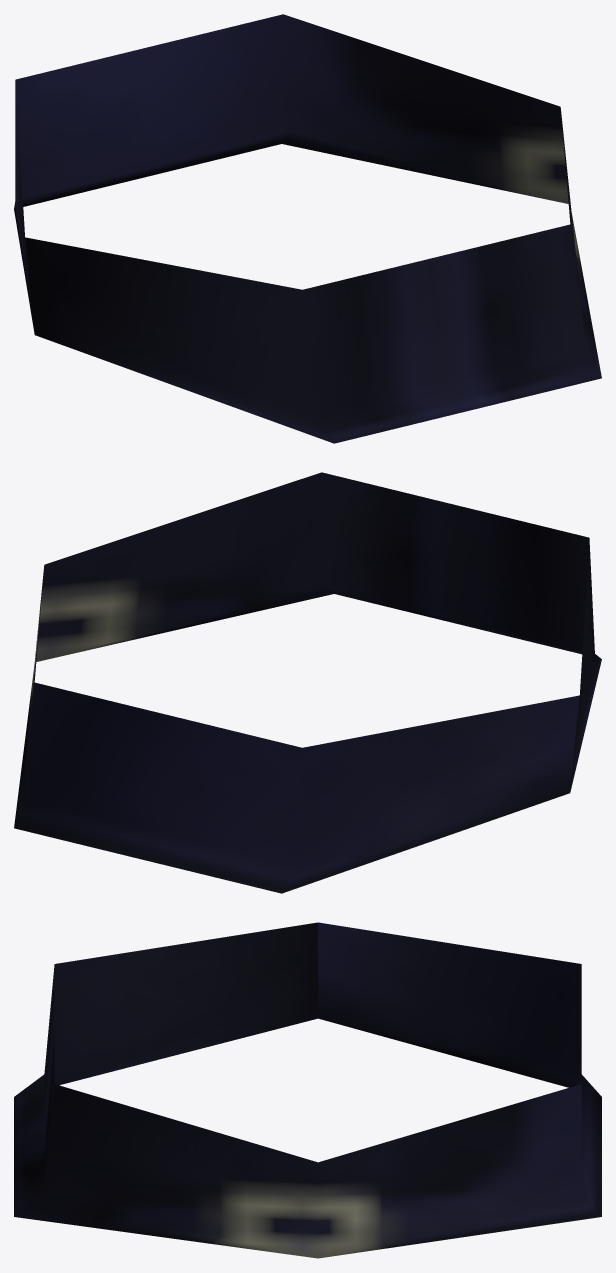
The model's file is batch_0105.obj.
3 views of the same model, one above another, from view 1: azimuth 30°, elevation 25°; view 2: azimuth 150°, elevation 25°; view 3: azimuth 270°, elevation 25° (orthographic). The views are drawn at different scales.
Parts seen in each view (by area): view 1: batch_0105; view 2: batch_0105; view 3: batch_0105.
Part boxes in pixels (x1=…): batch_0105: x1=14, y1=14, x2=601, y2=443; batch_0105: x1=14, y1=472, x2=601, y2=893; batch_0105: x1=14, y1=922, x2=601, y2=1258.
Size of the model in its own units: 14.25 by 3.5 by 14.5.
Materials: 1 (1 with a texture image).
